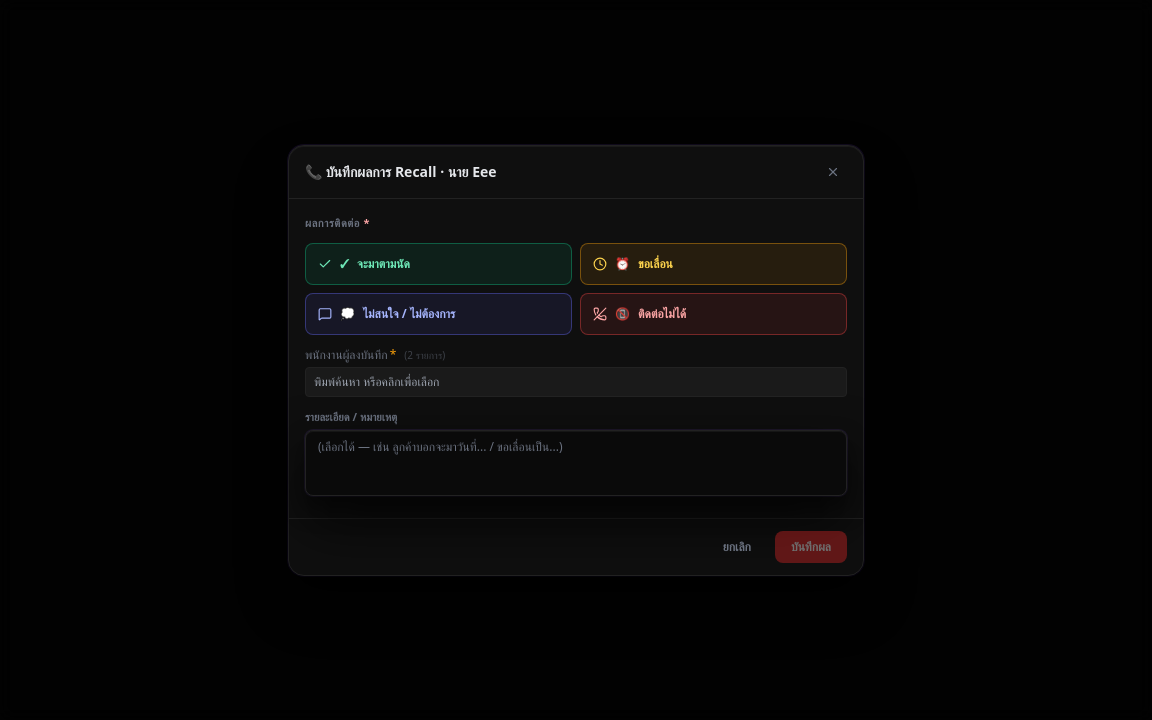
Scenario: Phase 29 · O3 auto-snooze hint visibility › O3.5 escalation warning VISIBLE when next save would hit 3
The image size is (1152, 720).
Click the button with test id "recall-outcome-card-no-answer": (662, 314) [580,293,847,335]
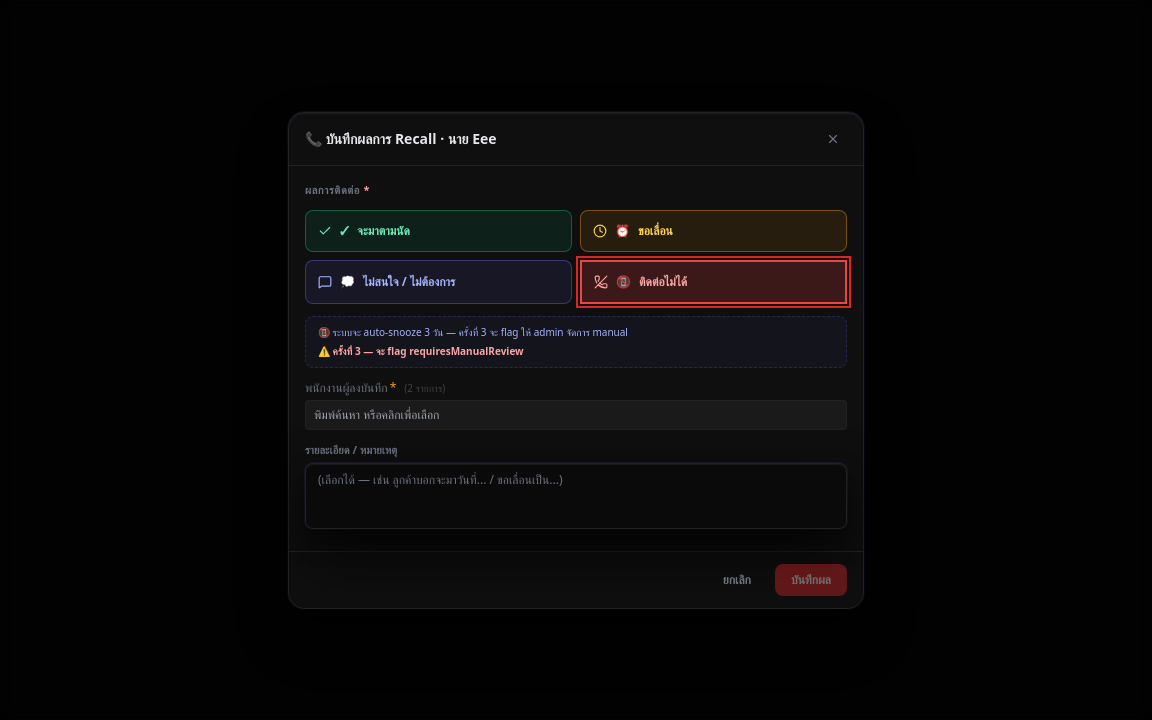
Check: the text with test id "recall-outcome-escalate-warning" shows "ครั้งที่ 3", box [318,344,524,358]
Check: the text with test id "recall-outcome-escalate-warning" shows "requiresManualReview", box [361,344,524,358]
